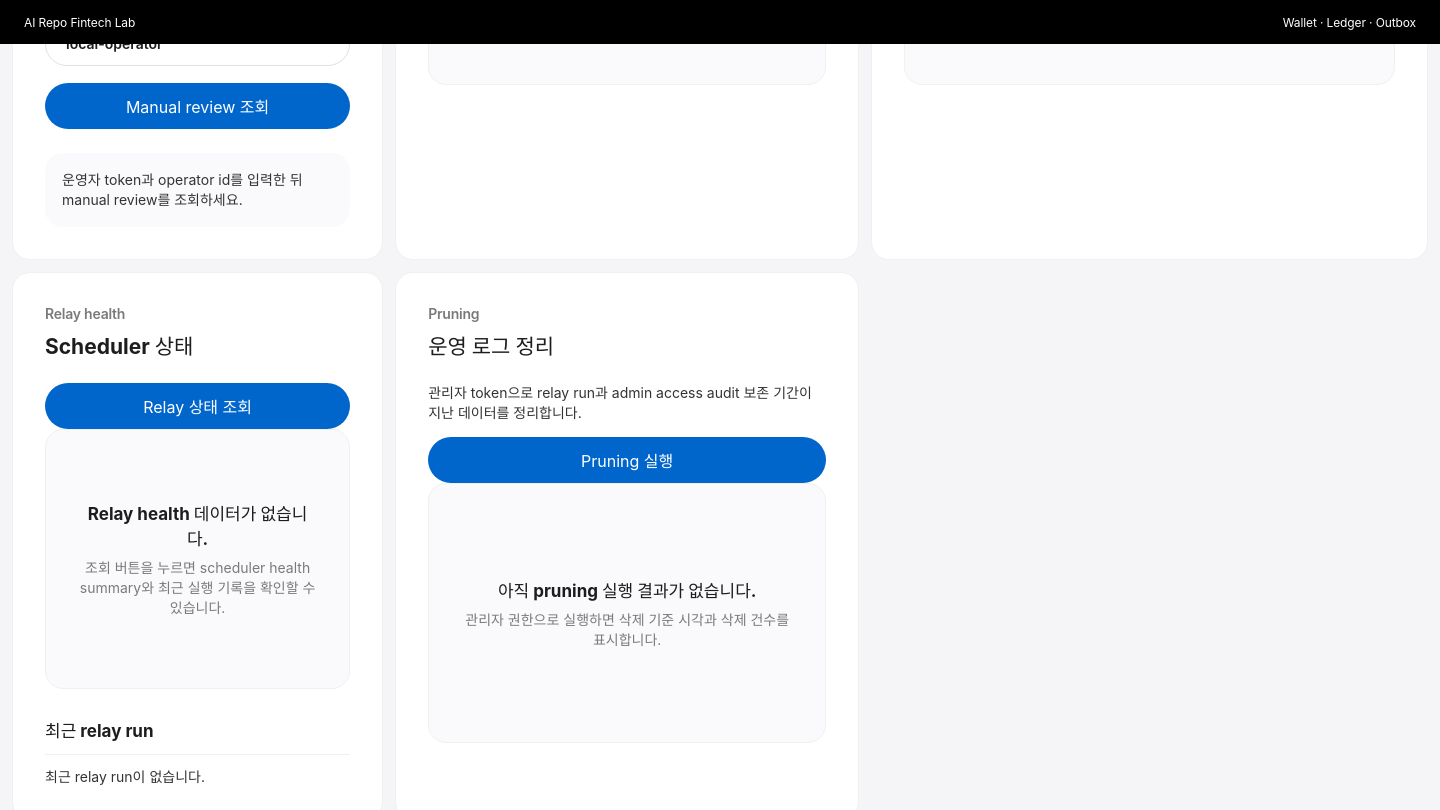
Test case: App › relay health와 pruning 결과를 운영자 콘솔에 표시한다
The width and height of the screenshot is (1440, 810).
(page scrolled)
Click the button "Relay 상태 조회" at (198, 406), box [45,383,350,429]
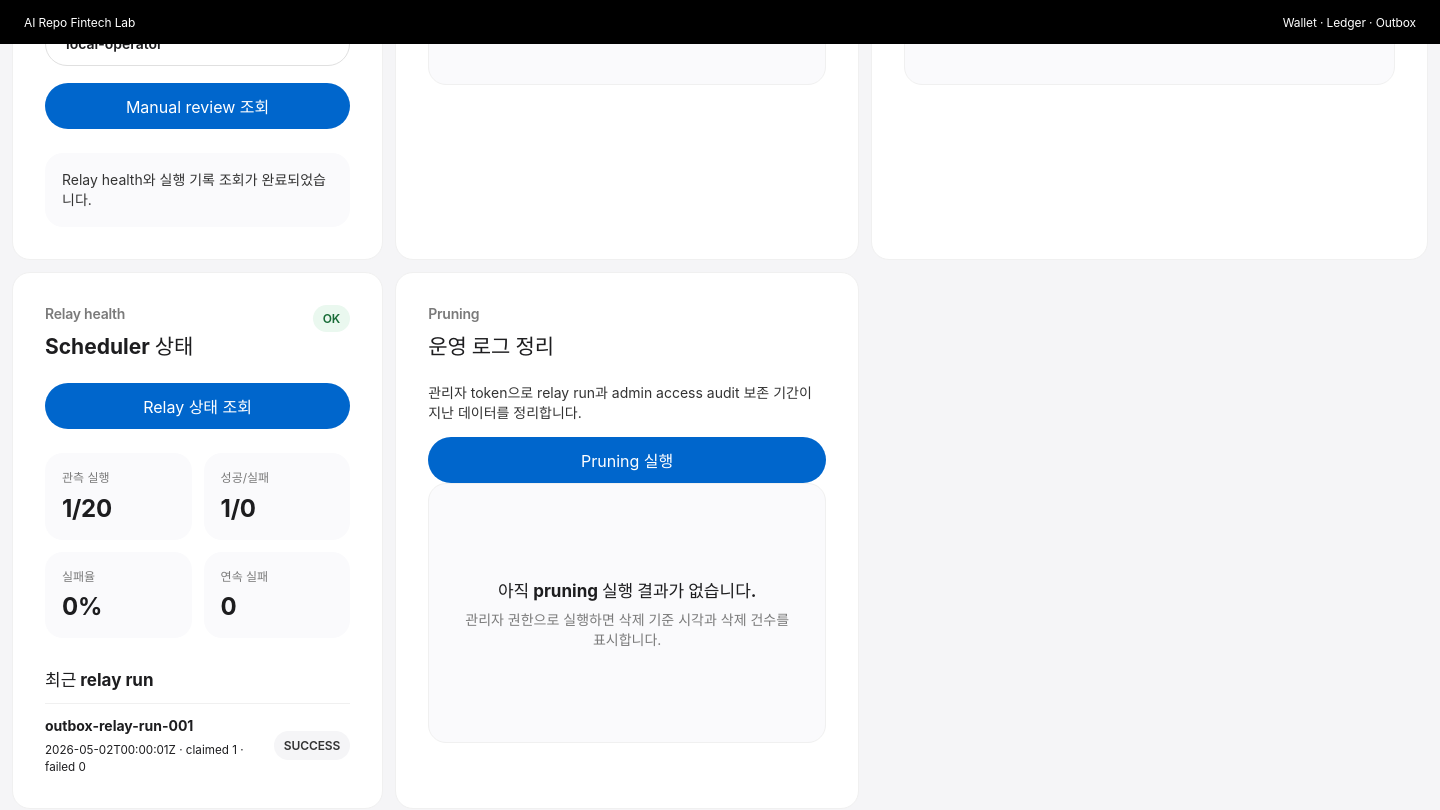
Result: the text "Relay health와 실행 기록 조회가 완료되었습니다." is shown at [45,153,350,227]
Result: the text "outbox-relay-run-001" is shown at [45,717,193,734]
Result: the text "1/20" is shown at [62,494,112,523]
Click the button "Pruning 실행" at (627, 460), box [428,437,826,483]
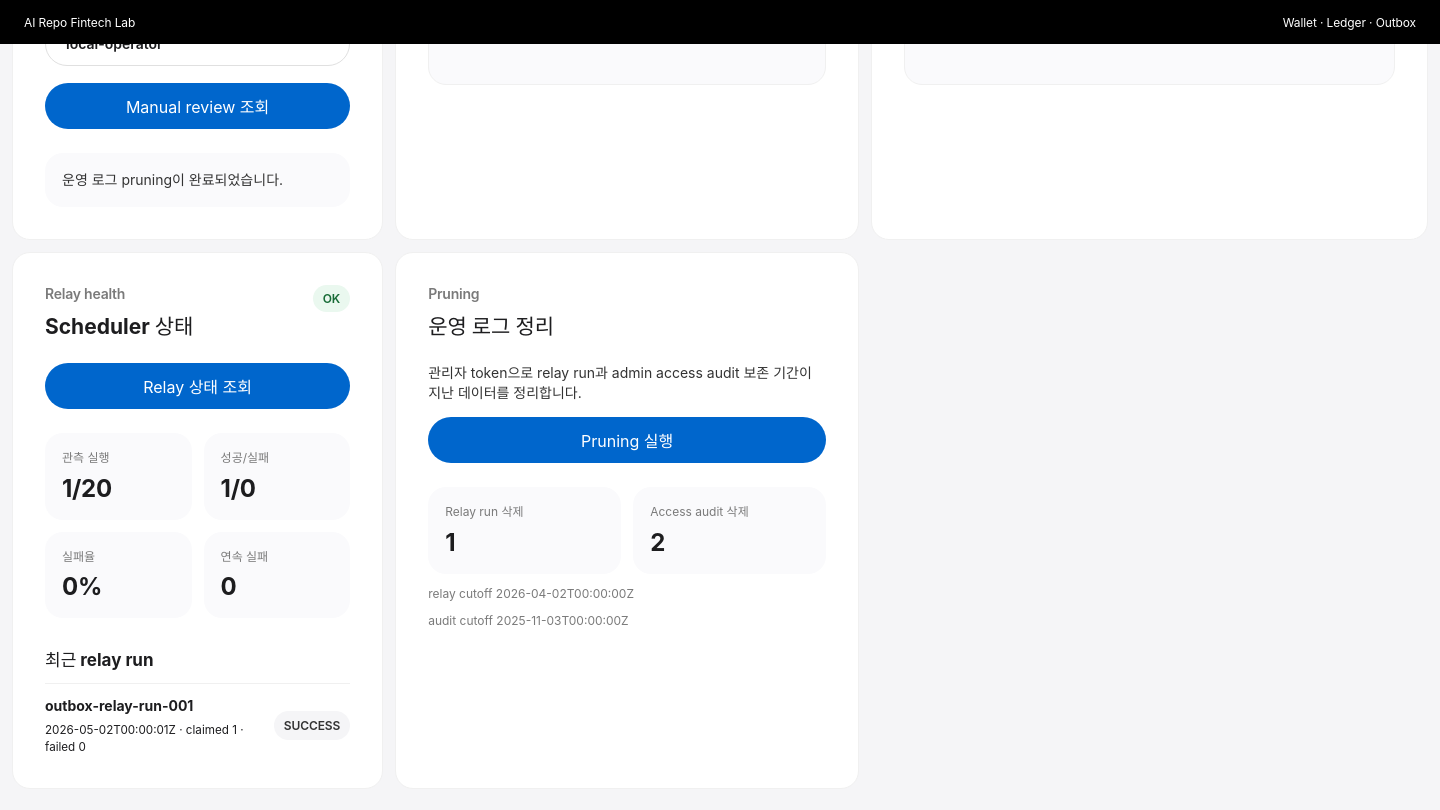
Result: the text "운영 로그 pruning이 완료되었습니다." is shown at [45,153,350,207]
Result: the text "Relay run 삭제" is shown at [445,504,524,519]
Result: the text "Access audit 삭제" is shown at [650,504,749,519]
